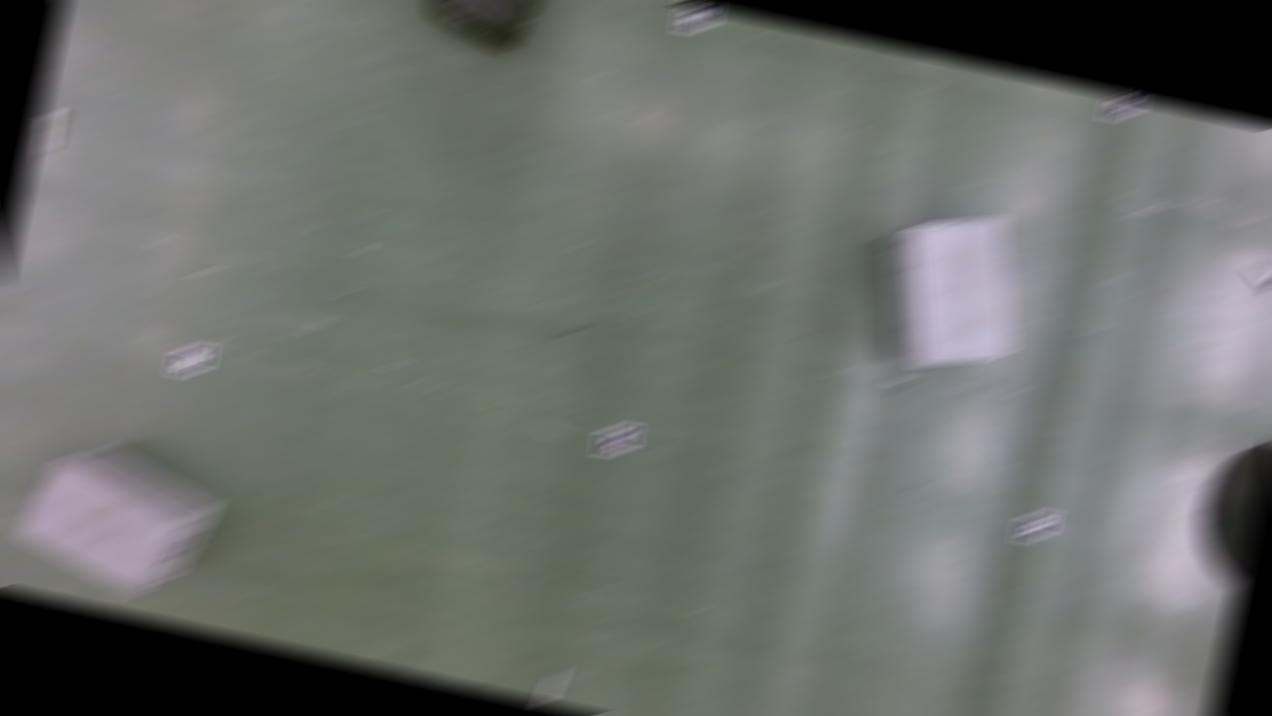probes: (30, 112, 62, 158), (532, 666, 564, 704), (1240, 263, 1272, 296)
rako: (4, 436, 227, 606), (859, 197, 1040, 379), (402, 1, 560, 55)
